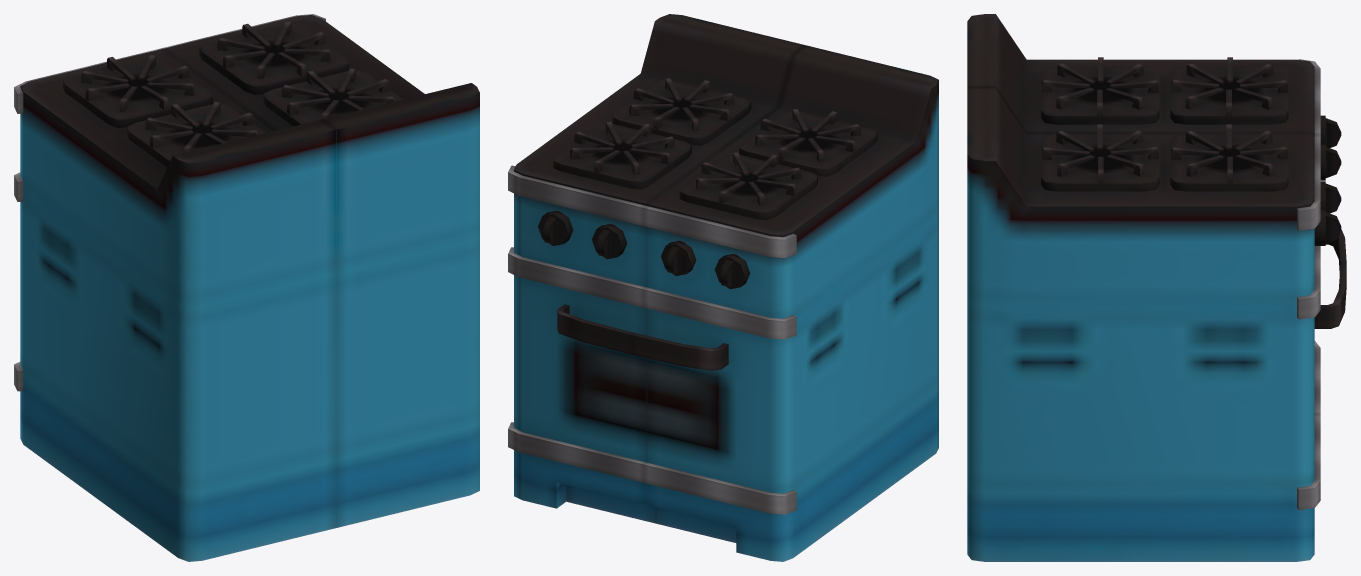
File: Stove_02.gltf
3 renders of one model, left to right at view 1: azimuth 30°, elevation 25°; view 2: azimuth 150°, elevation 25°; view 3: azimuth 270°, elevation 25°, orthographic. The views are drawn at different scales.
Parts seen in each view (by area): view 1: Stove_02; view 2: Stove_02; view 3: Stove_02.
Part boxes in pixels (x1,y1,x2,y2): Stove_02: (14,14,479,561); Stove_02: (508,14,938,561); Stove_02: (967,14,1346,561).
Bounding box in the file's own units: 31.21 × 38.5 × 33.02.
Materials: 1 (1 with a texture image).
